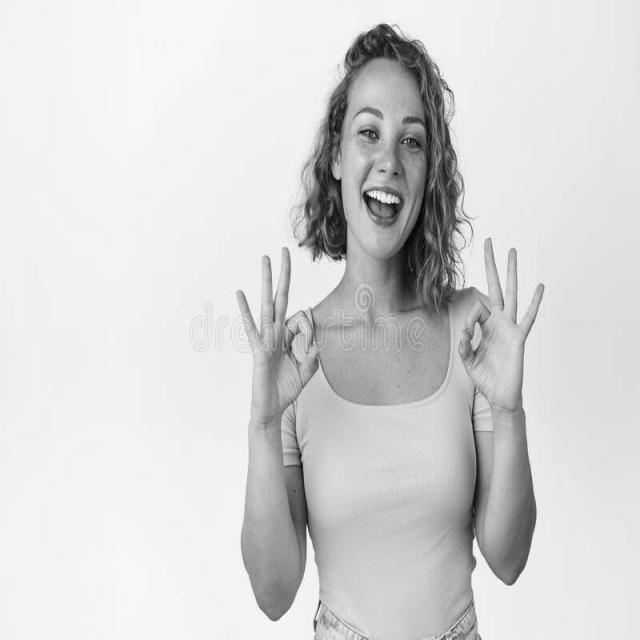perfect: (232, 240, 323, 438), (456, 234, 549, 421)
